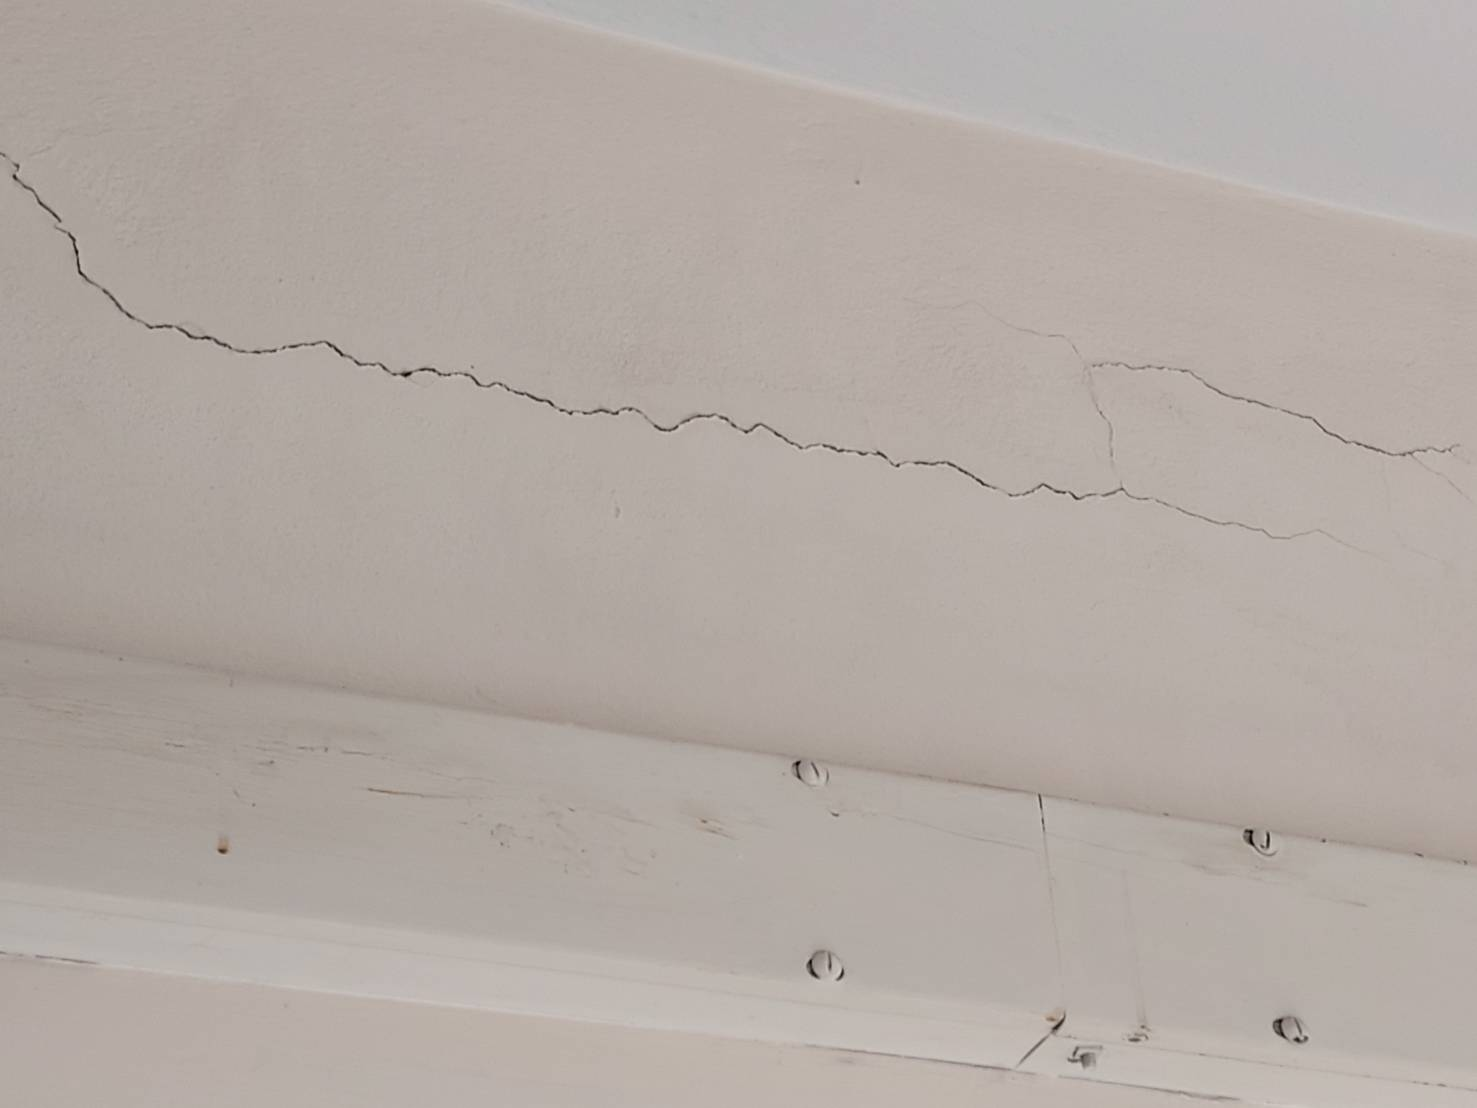Low: (1, 100, 1477, 606)
